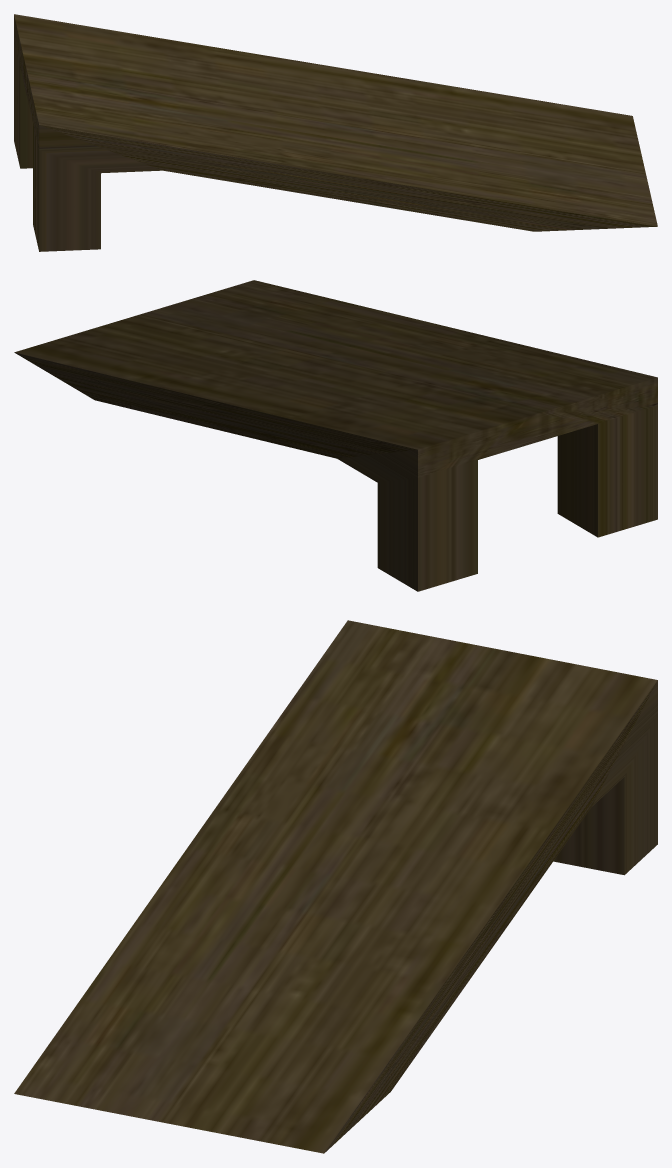
Rendered from PrimaryJumpRamp_2.obj.
3 views of the same model, one above another, from view 1: azimuth 30°, elevation 25°; view 2: azimuth 150°, elevation 25°; view 3: azimuth 270°, elevation 25° (orthographic). The views are drawn at different scales.
Parts seen in each view (by area): view 1: PrimaryJumpRamp; view 2: PrimaryJumpRamp; view 3: PrimaryJumpRamp.
Boxes of the visible parts, x1,y1,x2,y2 form: PrimaryJumpRamp: [14, 14, 657, 251]; PrimaryJumpRamp: [14, 280, 657, 591]; PrimaryJumpRamp: [14, 620, 657, 1153].
Bounding box in the file's own units: 48.18 × 10 × 35.53.
